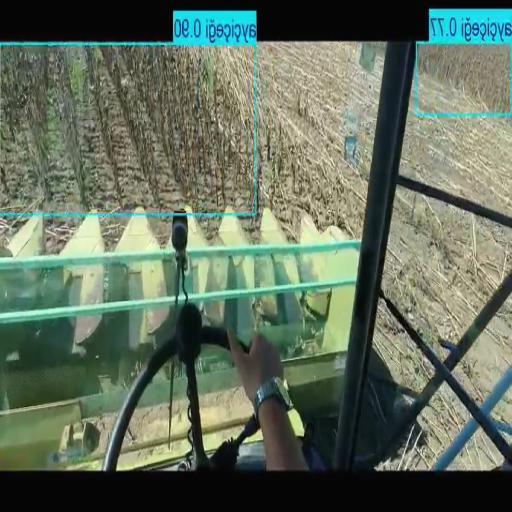ayc: (1, 45, 353, 258), (1, 325, 82, 408)
